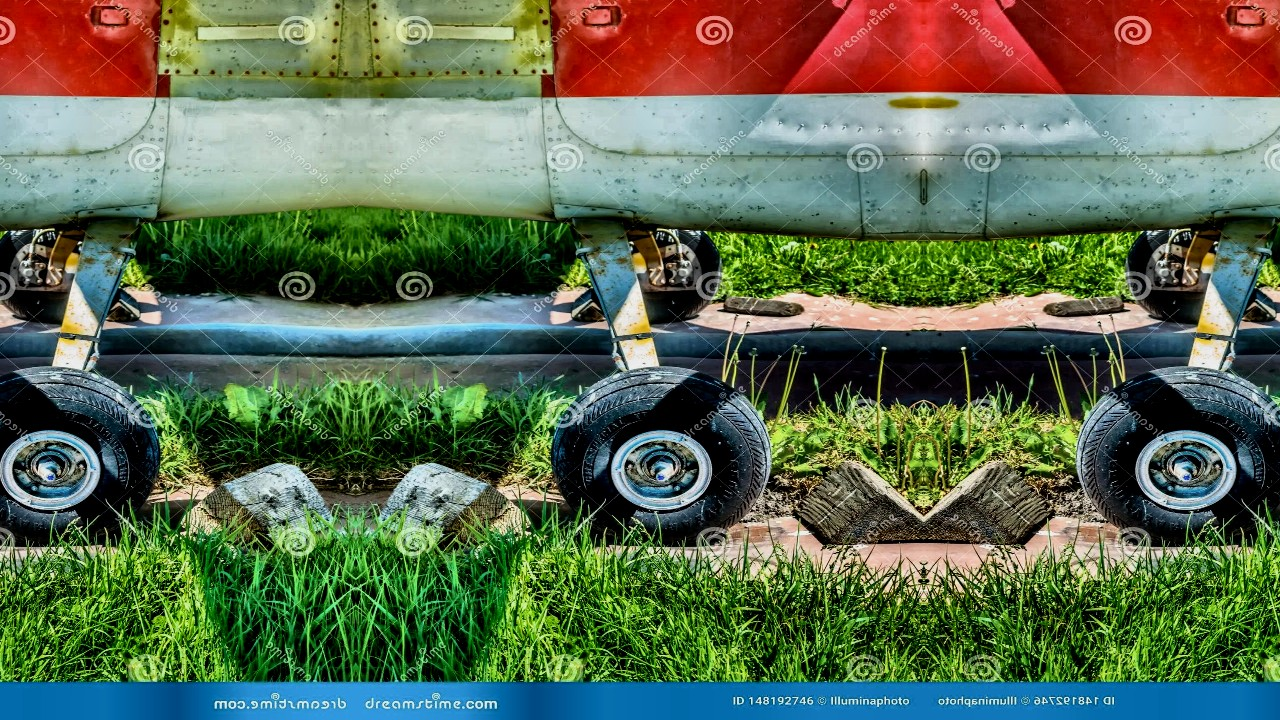chock: (370, 453, 532, 554), (179, 453, 340, 554), (792, 453, 924, 552), (924, 453, 1056, 552), (104, 281, 142, 325), (569, 281, 607, 325), (1241, 281, 1279, 325)
wheel: (550, 368, 769, 541), (1080, 368, 1280, 541), (0, 368, 162, 541), (640, 228, 720, 320), (1128, 228, 1208, 320), (0, 228, 72, 320)
